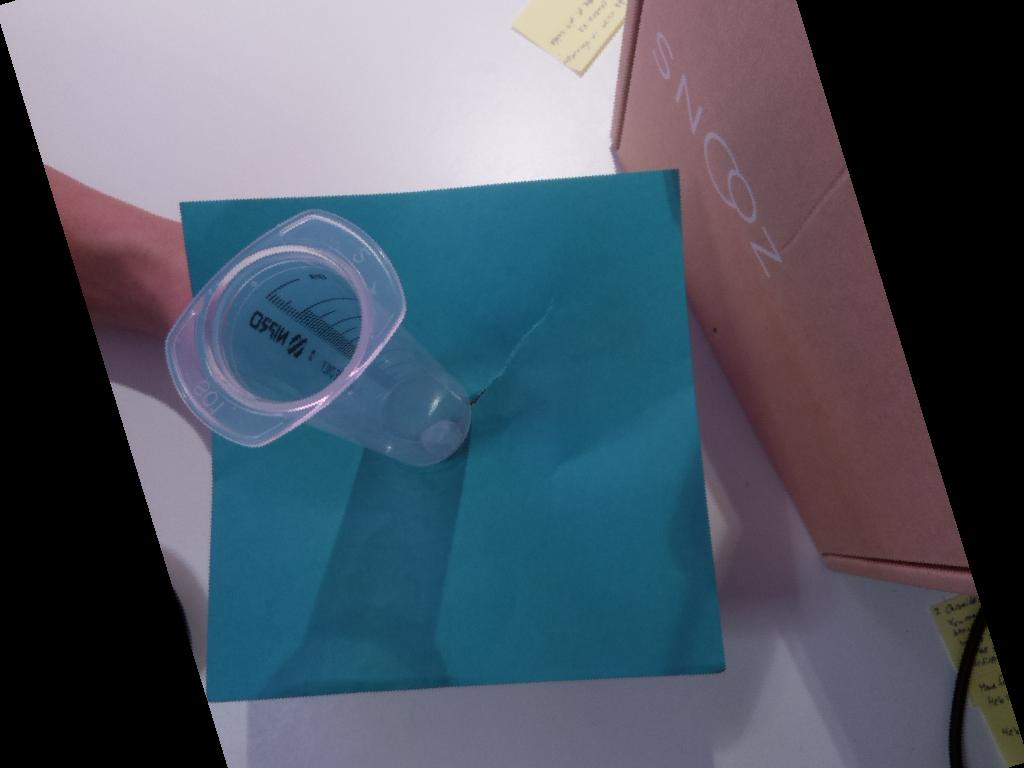clean: (162, 206, 408, 451)
